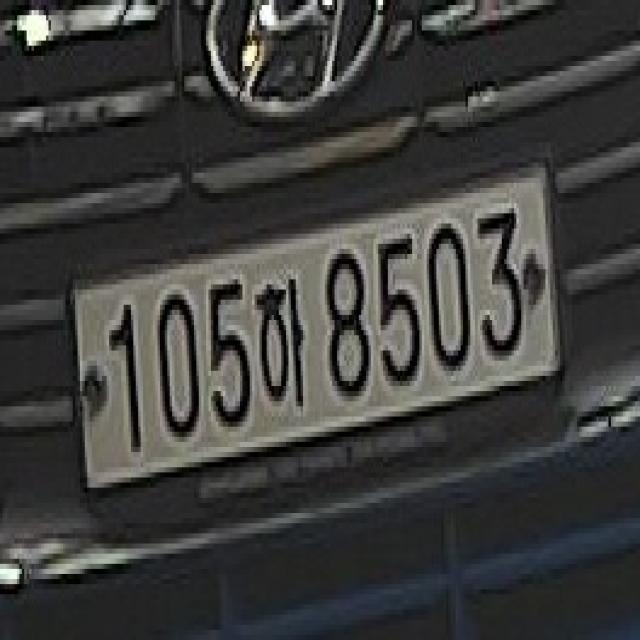plat: (67, 151, 564, 490)
